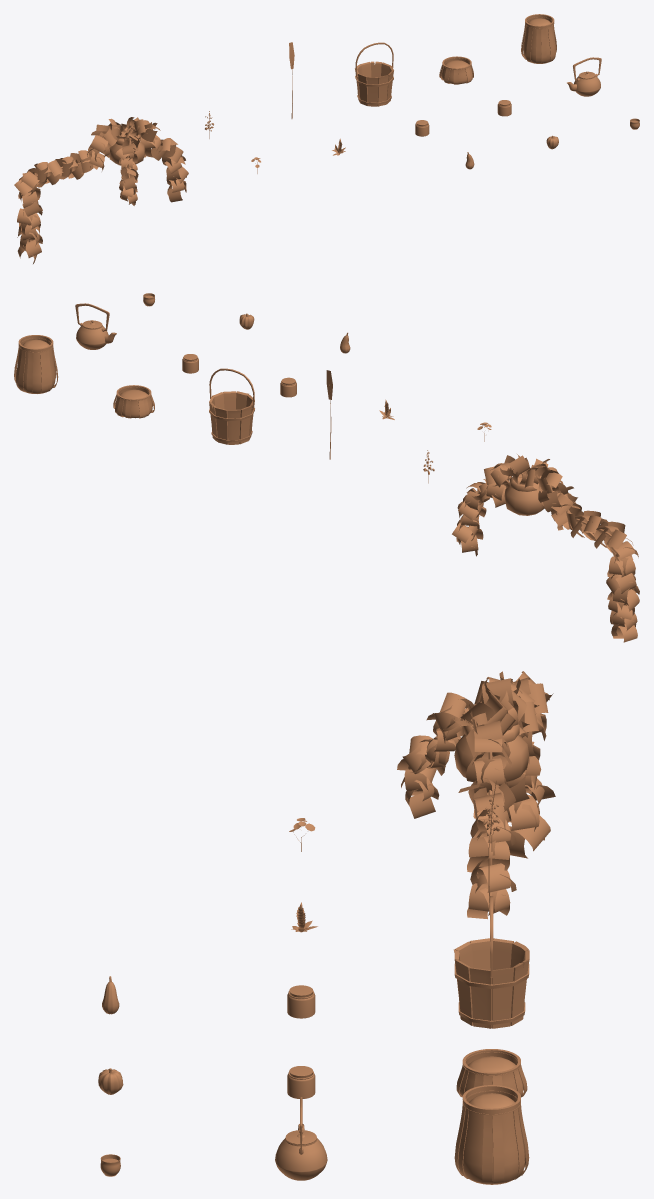
The model's file is cmc_shaman_assets_01_low.fbx.
The picture shows the model from 3 angles, top to bottom: view 1: azimuth 30°, elevation 25°; view 2: azimuth 150°, elevation 25°; view 3: azimuth 270°, elevation 25°; orthographic projection. The views are drawn at different scales.
Parts seen in each view (by area): view 1: plant_vines_geo, bucket_geo_low, basket_tall_geo_low, basket_small_geo_low, teapot_geo_low, overgrown_plant_geo_low; view 2: plant_vines_geo, bucket_geo_low, basket_tall_geo_low, overgrown_plant_geo_low, basket_small_geo_low, teapot_geo_low; view 3: plant_vines_geo, bucket_geo_low, basket_tall_geo_low, teapot_geo_low, basket_small_geo_low, overgrown_plant_geo_low.
Part boxes in pixels (<box>): plant_vines_geo: <box>14,117,188,263</box>; bucket_geo_low: <box>355,61,393,106</box>; basket_tall_geo_low: <box>521,14,556,63</box>; basket_small_geo_low: <box>439,56,473,84</box>; teapot_geo_low: <box>567,71,600,96</box>; overgrown_plant_geo_low: <box>109,131,145,165</box>; plant_vines_geo: <box>452,454,639,642</box>; bucket_geo_low: <box>209,391,254,444</box>; basket_tall_geo_low: <box>14,335,58,393</box>; overgrown_plant_geo_low: <box>504,477,544,515</box>; basket_small_geo_low: <box>113,385,154,418</box>; teapot_geo_low: <box>76,320,116,349</box>; plant_vines_geo: <box>397,671,555,919</box>; bucket_geo_low: <box>453,938,529,1028</box>; basket_tall_geo_low: <box>454,1085,529,1184</box>; teapot_geo_low: <box>275,1124,327,1180</box>; basket_small_geo_low: <box>456,1049,527,1097</box>; overgrown_plant_geo_low: <box>454,722,529,782</box>.
Size of the model in its own units: 6.45 by 1.87 by 2.4.
